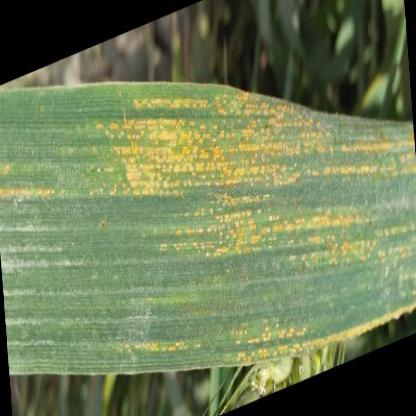Wheat-Yellow-rust: (115, 86, 177, 254), (183, 88, 225, 319), (266, 110, 300, 345), (232, 91, 261, 354), (306, 113, 332, 331), (372, 127, 401, 292), (338, 123, 364, 304), (2, 146, 54, 220), (404, 132, 414, 278), (134, 335, 185, 360)
